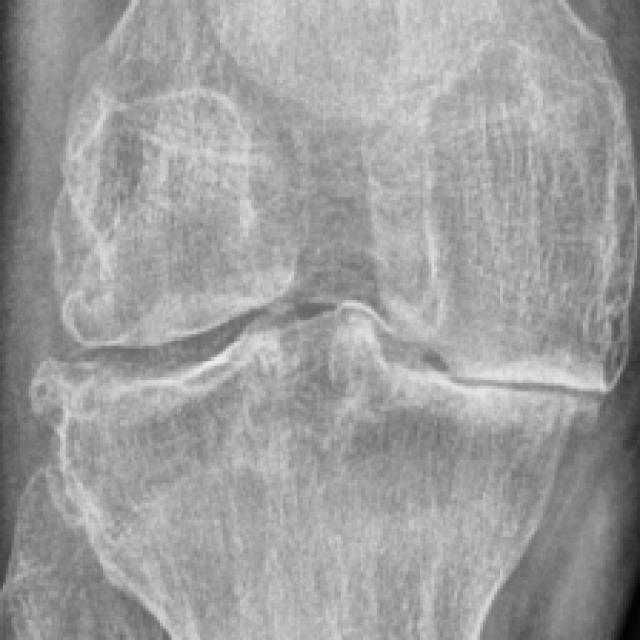femur: (48, 0, 636, 393)
tibia: (24, 298, 573, 640)
